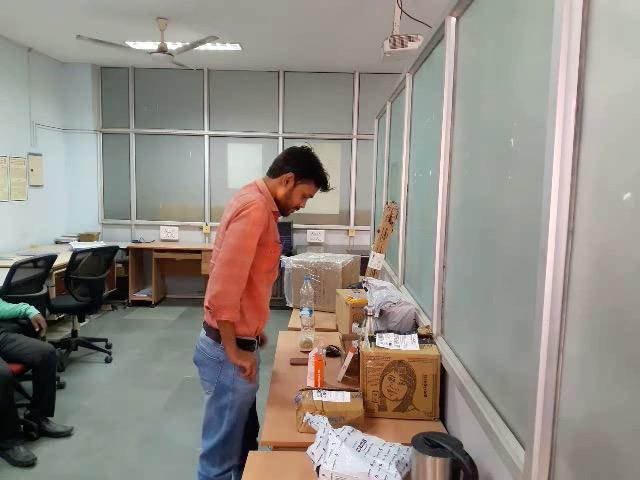shoplifting: (203, 306, 272, 408)
